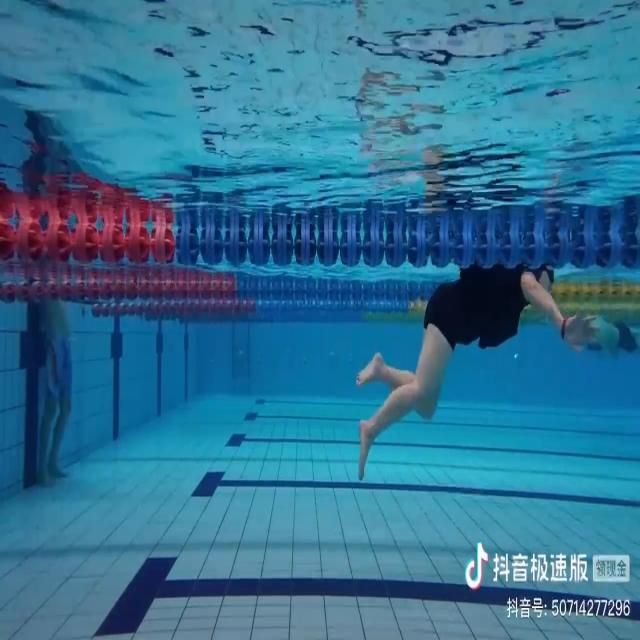Swimming: (357, 265, 599, 481), (563, 313, 640, 353)
